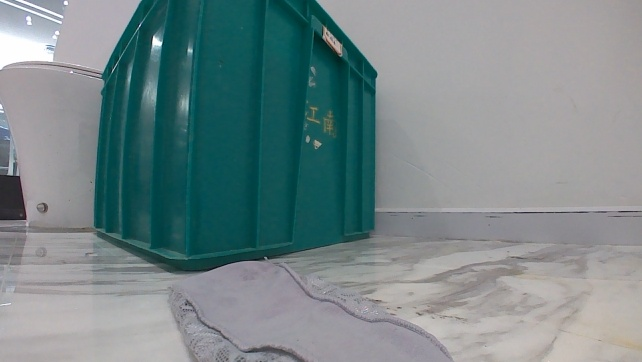socks: (162, 253, 454, 361)
toilet: (0, 55, 110, 234)
